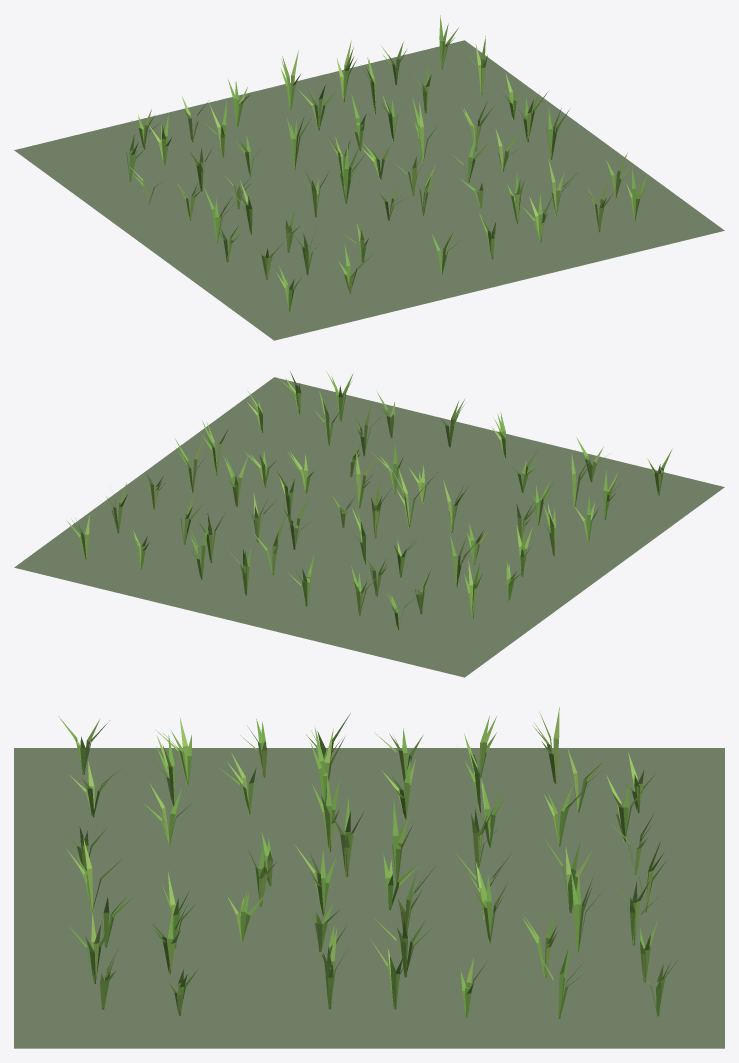
File: Paddy_Rice_Sparse.glb
3 renders of one model, top to bottom at view 1: azimuth 30°, elevation 25°; view 2: azimuth 150°, elevation 25°; view 3: azimuth 270°, elevation 25°, orthographic. The views are drawn at different scales.
Parts seen in each view (by area): view 1: Paddy_Rice_Sparse; view 2: Paddy_Rice_Sparse; view 3: Paddy_Rice_Sparse.
Boxes of the visible parts, x1,y1,x2,y2 form: Paddy_Rice_Sparse: (14,15,724,340); Paddy_Rice_Sparse: (14,371,724,677); Paddy_Rice_Sparse: (14,707,724,1048).
Size of the model in its own units: 4 by 0.5031 by 4.
